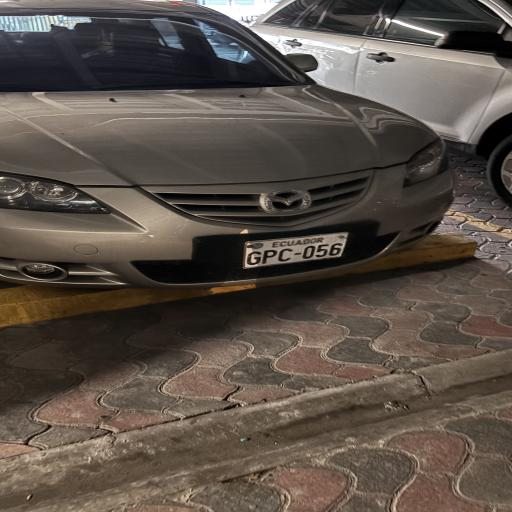license_plate: (243, 232, 348, 269)
